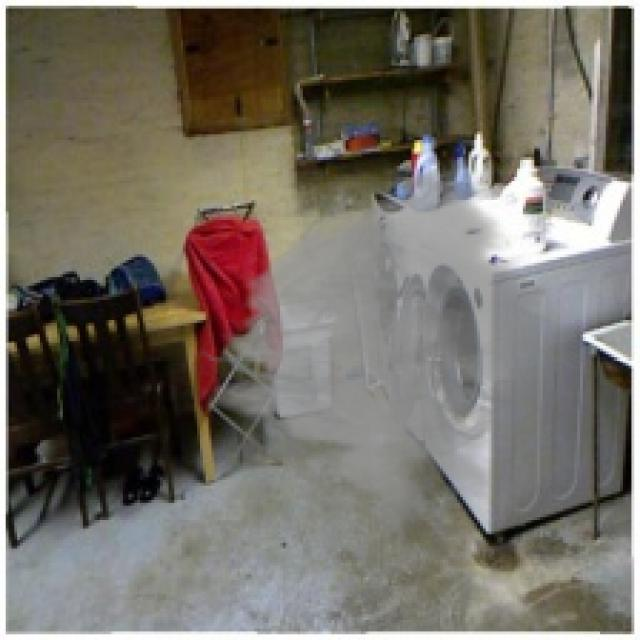smoke: (194, 169, 583, 537)
